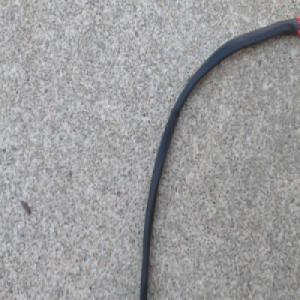Wire: (137, 9, 300, 300)
